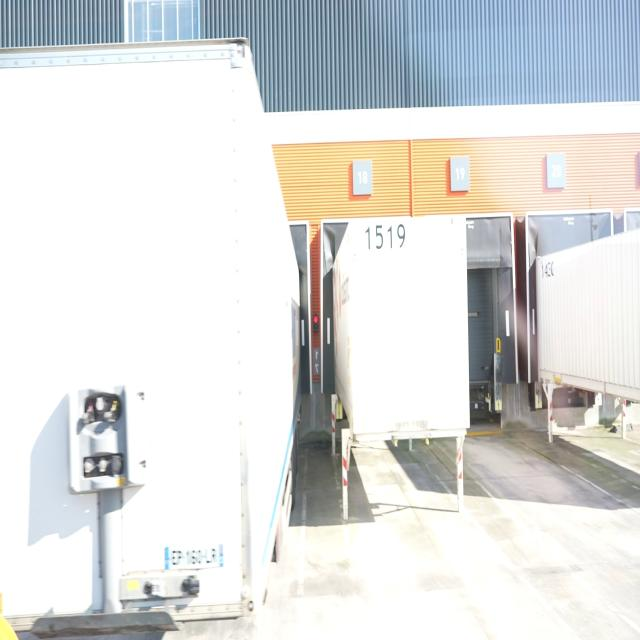Code: (360, 218, 412, 258)
